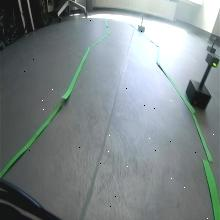green: (206, 53, 220, 68)
